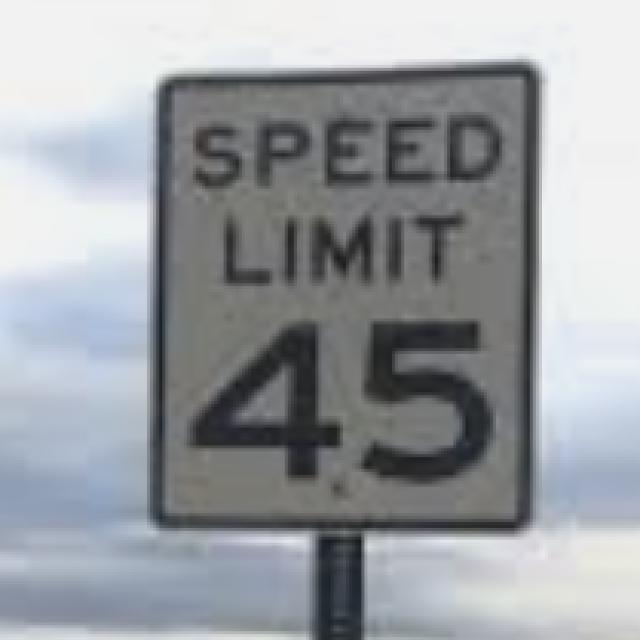speedLimit45: (154, 82, 536, 516)
